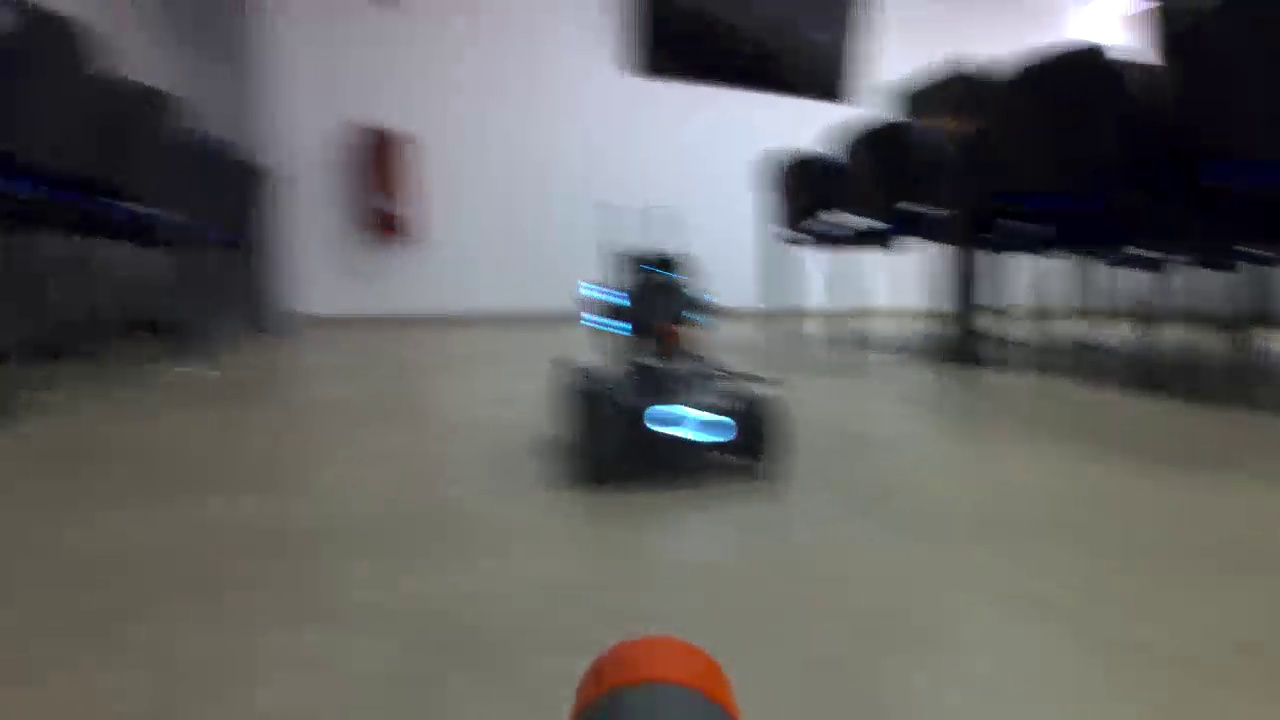robot: (553, 254, 787, 488)
